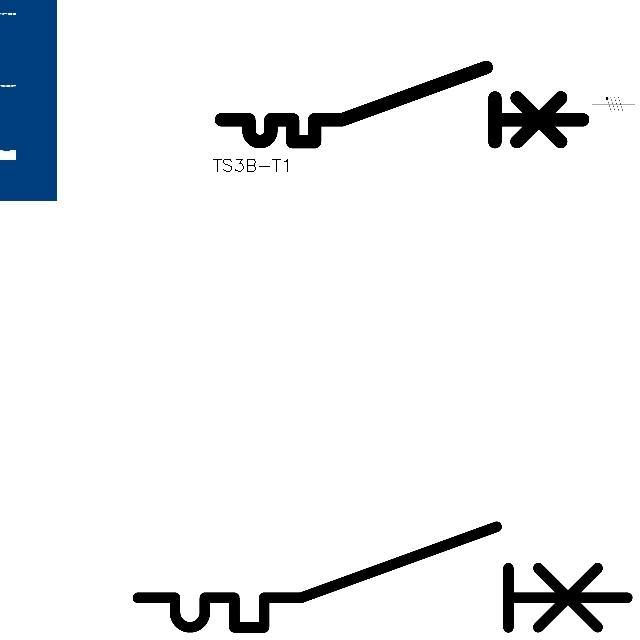interruptor_termomagnetico: (125, 514, 640, 640), (212, 58, 592, 151)
